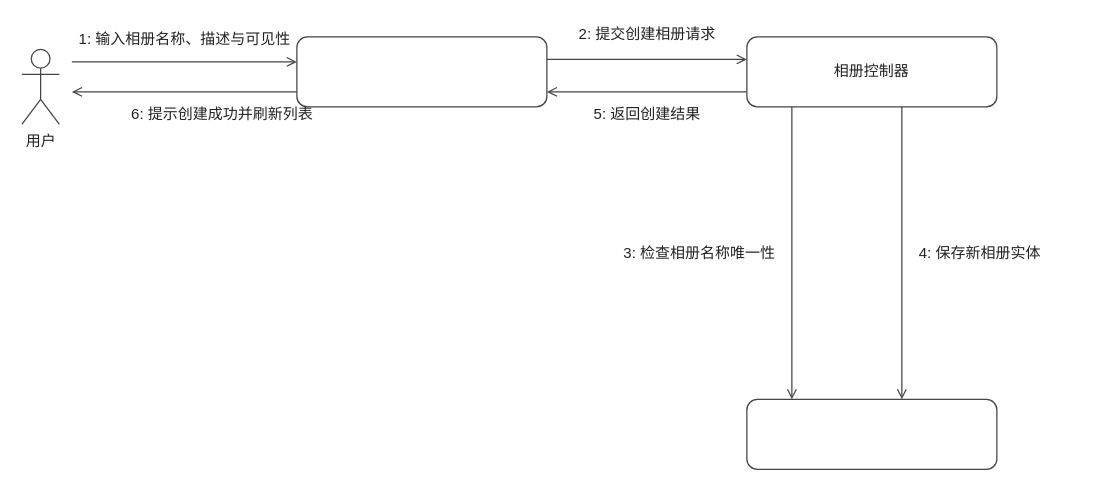
Some shapes in this 1114 by 491 pixel diagram are drawn without their labels. Here are the shapes that lost their labels. From the top down, the centre of each, then its label:
At [421,71]: "相册页面".
At [871,433]: "相册".
